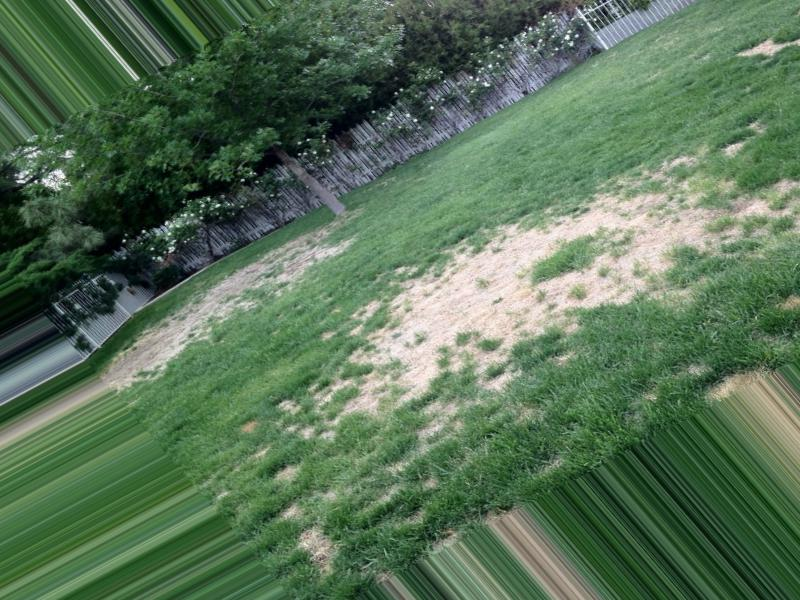patch: (616, 236, 696, 293), (415, 281, 507, 314), (539, 289, 593, 320), (130, 337, 192, 352), (489, 255, 527, 275), (403, 334, 436, 355), (190, 286, 236, 301)
